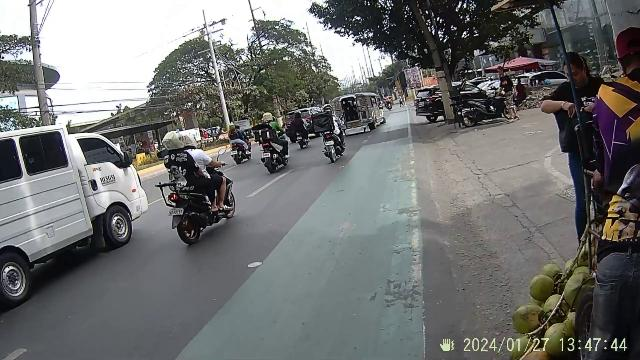motorcycle: (158, 141, 238, 247)
